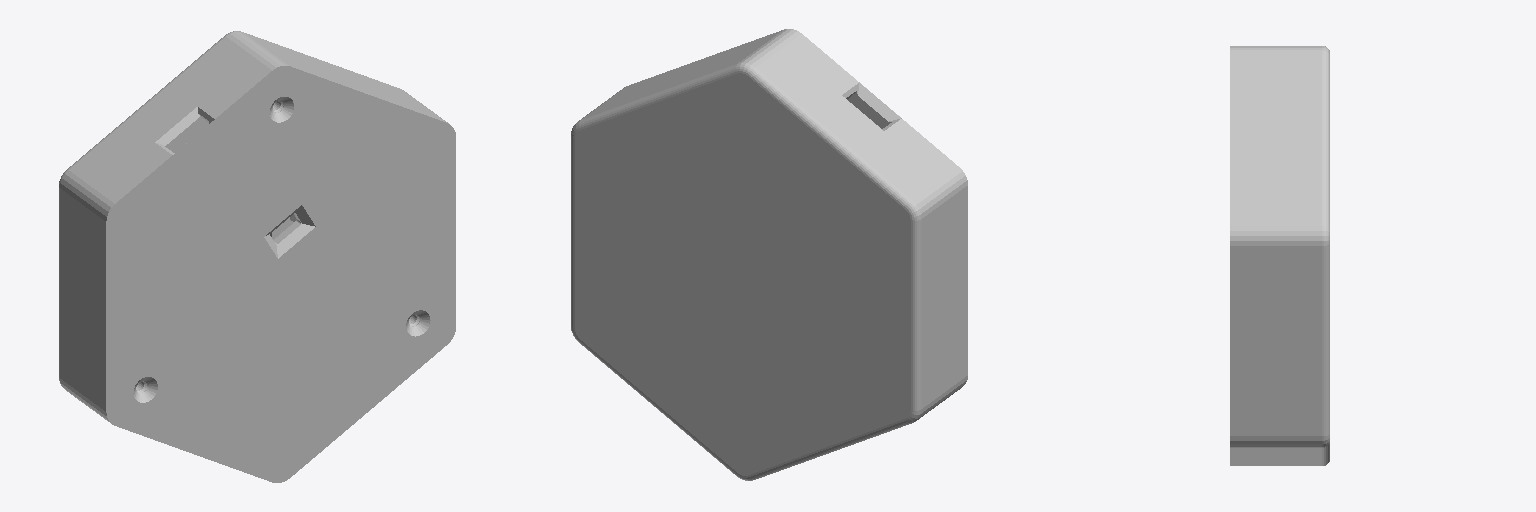
The model's file is PhysioPods OBJ.obj.
The picture shows the model from 3 angles: view 1: azimuth 30°, elevation 25°; view 2: azimuth 150°, elevation 25°; view 3: azimuth 270°, elevation 25°; orthographic projection.
Visible parts, largest first — view 1: Couvercle PCB V2, Boitier Hexagone Vis 3mm; view 2: Boitier Hexagone Vis 3mm, Couvercle PCB V2; view 3: Boitier Hexagone Vis 3mm, Couvercle PCB V2.
Part boxes in pixels (bbox=[...]): Couvercle PCB V2: bbox=[102, 63, 455, 482]; Boitier Hexagone Vis 3mm: bbox=[59, 31, 444, 419]; Boitier Hexagone Vis 3mm: bbox=[571, 32, 963, 480]; Couvercle PCB V2: bbox=[623, 29, 967, 389]; Boitier Hexagone Vis 3mm: bbox=[1238, 46, 1329, 465]; Couvercle PCB V2: bbox=[1230, 46, 1237, 465].
Size of the model in its own units: 10 by 11.39 by 2.5.